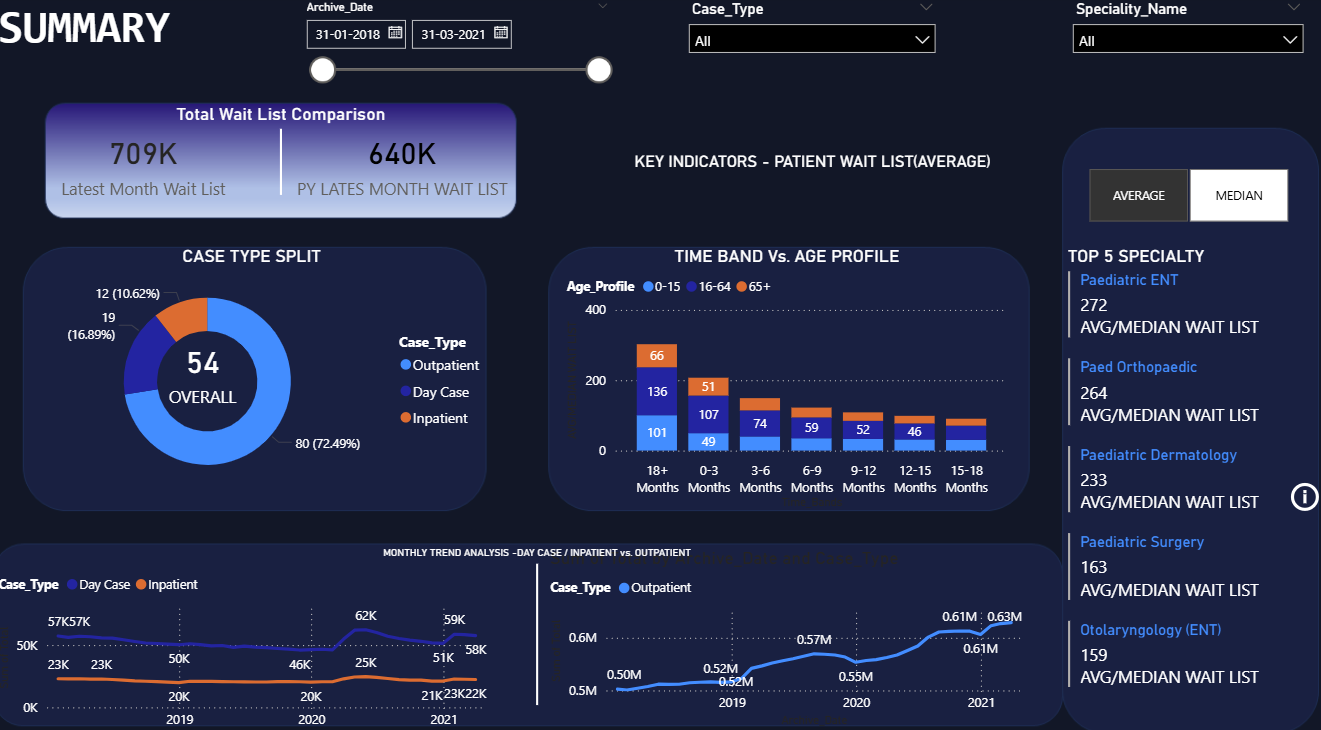

What the dashboard file says about the page in this screenshot:
{"tool":"powerbi","page":{"name":"Summary","canvas":[1280,720],"ordinal":0},"visuals":[{"type":"slicer","fields":{"Values":["Table.CALC METHOD"]},"box":[1024,160,240,64],"z":0},{"type":"donutChart","title":"CASE TYPE SPLIT","fields":{"Category":["all_data.Case_Type"],"Y":["all_data.AVG/MEDIAN WAIT LIST"]},"box":[16,240,464,240],"z":1000},{"type":"columnChart","title":"TIME BAND Vs. AGE PROFILE","fields":{"Y":["all_data.AVG/MEDIAN WAIT LIST"],"Category":["all_data.Time_Bands"],"Series":["all_data.Age_Profile"]},"box":[544,240,432,256],"z":2000},{"type":"card","fields":{"Values":["all_data.nodataleft"]},"box":[64,590.9,381.8,41.1],"z":3000},{"type":"lineChart","fields":{"Category":["all_data.Archive_Date"],"Series":["all_data.Case_Type"],"Y":["Sum(all_data.Total)"]},"box":[0,543.7,479.7,176.4],"z":4000},{"type":"card","fields":{"Values":["all_data.nodataright"]},"box":[569.1,595.7,381.8,41.1],"z":5000},{"type":"lineChart","fields":{"Category":["all_data.Archive_Date"],"Series":["all_data.Case_Type"],"Y":["Sum(all_data.Total)"]},"box":[528,528,464,176],"z":6000},{"type":"slicer","fields":{"Values":["all_data.Archive_Date"]},"box":[287.6,0,314.2,103.9],"z":7000},{"type":"slicer","fields":{"Values":["all_data.Case_Type"]},"box":[656,0,256,96],"z":8000},{"type":"textbox","box":[0,0,192,80],"z":9000},{"type":"card","fields":{"Values":["all_data.Latest Month Wait List"]},"box":[32,112,224,96],"z":10000},{"type":"card","fields":{"Values":["all_data.PY LATES MONTH WAIT LIST"]},"box":[272,112,240,96],"z":11000},{"type":"multiRowCard","title":"TOP 5 SPECIALTY","fields":{"Values":["all_data.AVG/MEDIAN WAIT LIST","all_data.Speciality_Name"]},"box":[1024,240,240,464],"z":12000},{"type":"card","fields":{"Values":["all_data.AVG/MEDIAN WAIT LIST"]},"box":[96,240,208,240],"z":13000},{"type":"shape","title":"Total Wait List Comparison","box":[130.5,103.9,290,88.2],"z":14000},{"type":"shape","title":"MONTHLY TREND ANALYSIS -DAY CASE / INPATIENT vs. OUTPATIENT","box":[371,528,300.9,151],"z":15000},{"type":"card","fields":{"Values":["all_data.DYNAMIC TITLE"]},"box":[543.7,76.1,479.7,166.7],"z":16000},{"type":"slicer","fields":{"Values":["all_data.Speciality_Name"]},"box":[1024.1,0,240.4,75.8],"z":17000},{"type":"actionButton","box":[1238.5,462.8,41.1,36.2],"z":18000}]}

Visuals, with their boxes in screenshot pixels (x1, y1, x2, y2), scaled from the page's 1280x720 canvas onto the 1321x730 screenshot:
slicer - Table.CALC METHOD: box=[1057, 162, 1304, 227]
"CASE TYPE SPLIT" donutChart: box=[17, 243, 495, 487]
"TIME BAND Vs. AGE PROFILE" columnChart: box=[561, 243, 1007, 503]
card - all_data.nodataleft: box=[66, 599, 460, 641]
lineChart - all_data.Archive_Date x all_data.Case_Type: box=[0, 551, 495, 729]
card - all_data.nodataright: box=[587, 604, 981, 646]
lineChart - all_data.Archive_Date x all_data.Case_Type: box=[545, 535, 1024, 714]
slicer - all_data.Archive_Date: box=[297, 0, 621, 105]
slicer - all_data.Case_Type: box=[677, 0, 941, 97]
textbox: box=[0, 0, 198, 81]
card - all_data.Latest Month Wait List: box=[33, 114, 264, 211]
card - all_data.PY LATES MONTH WAIT LIST: box=[281, 114, 528, 211]
"TOP 5 SPECIALTY" multiRowCard: box=[1057, 243, 1304, 714]
card - all_data.AVG/MEDIAN WAIT LIST: box=[99, 243, 314, 487]
"Total Wait List Comparison" shape: box=[135, 105, 434, 195]
"MONTHLY TREND ANALYSIS -DAY CASE / INPATIENT vs. OUTPATIENT" shape: box=[383, 535, 693, 688]
card - all_data.DYNAMIC TITLE: box=[561, 77, 1056, 246]
slicer - all_data.Speciality_Name: box=[1057, 0, 1305, 77]
actionButton: box=[1278, 469, 1320, 506]
